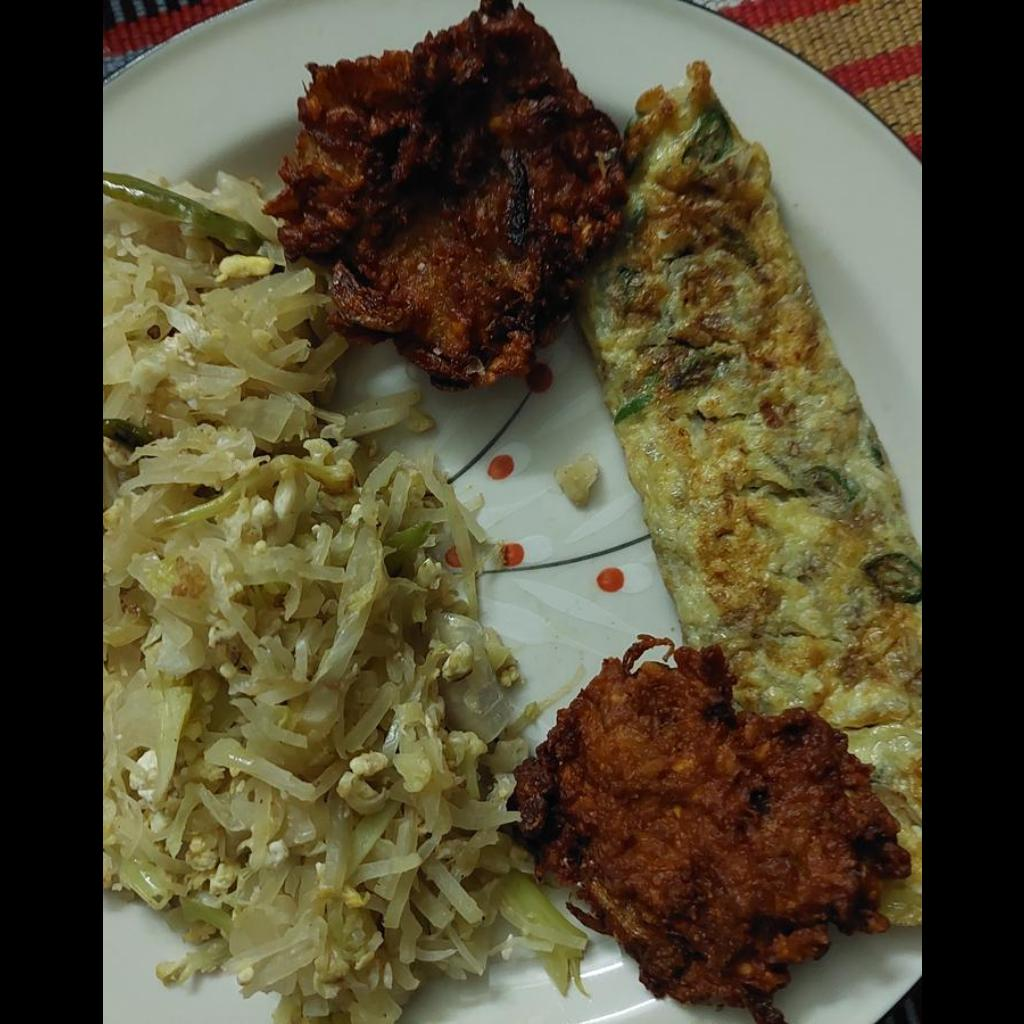egg-poached: (583, 65, 920, 927)
piyaju: (512, 637, 909, 1023), (266, 0, 623, 386)
vaji: (102, 167, 589, 1018)
